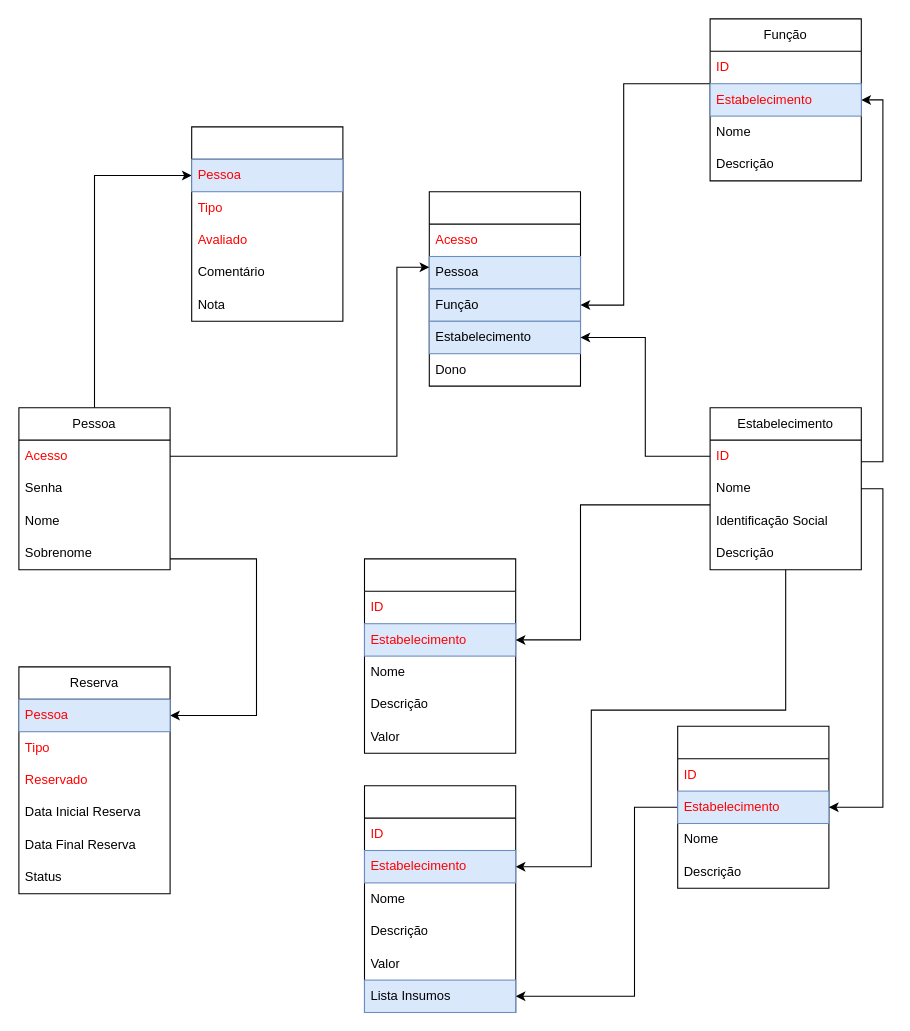
This 910x1031 diagram has some shape labels left out. Here are the shapes that lost their labels. From the top down, the box of each, then its label:
(191, 126, 343, 321): Avaliação
(428, 191, 580, 386): Funcionario
(363, 558, 516, 753): Serviço
(677, 725, 829, 888): Insumo
(363, 785, 516, 1013): Produto
